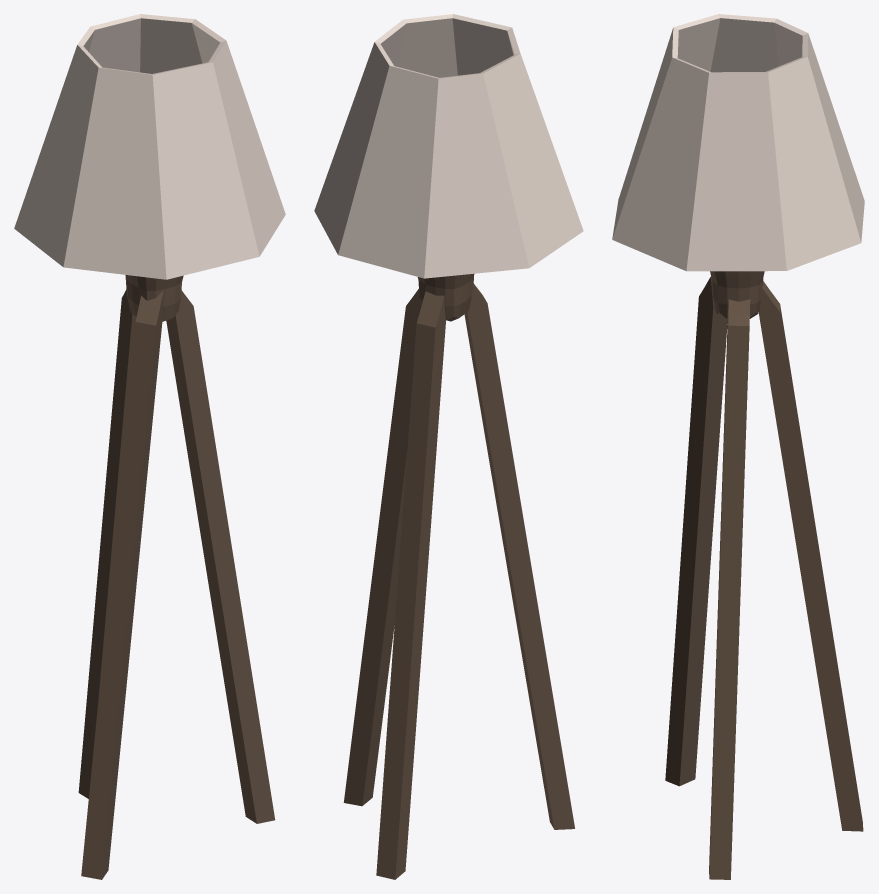
The model's file is Lamp_3_231109.glb.
The picture shows the model from 3 angles, left to right: view 1: azimuth 30°, elevation 25°; view 2: azimuth 150°, elevation 25°; view 3: azimuth 270°, elevation 25°; orthographic projection.
Parts seen in each view (by area): view 1: Lamp_3; view 2: Lamp_3; view 3: Lamp_3.
Boxes of the visible parts, x1=… form: Lamp_3: x1=14, y1=14, x2=285, y2=879; Lamp_3: x1=314, y1=14, x2=583, y2=879; Lamp_3: x1=612, y1=14, x2=864, y2=879.
Size of the model in its own units: 0.5782 by 1.97 by 0.575.
1 material, 1 textured.
